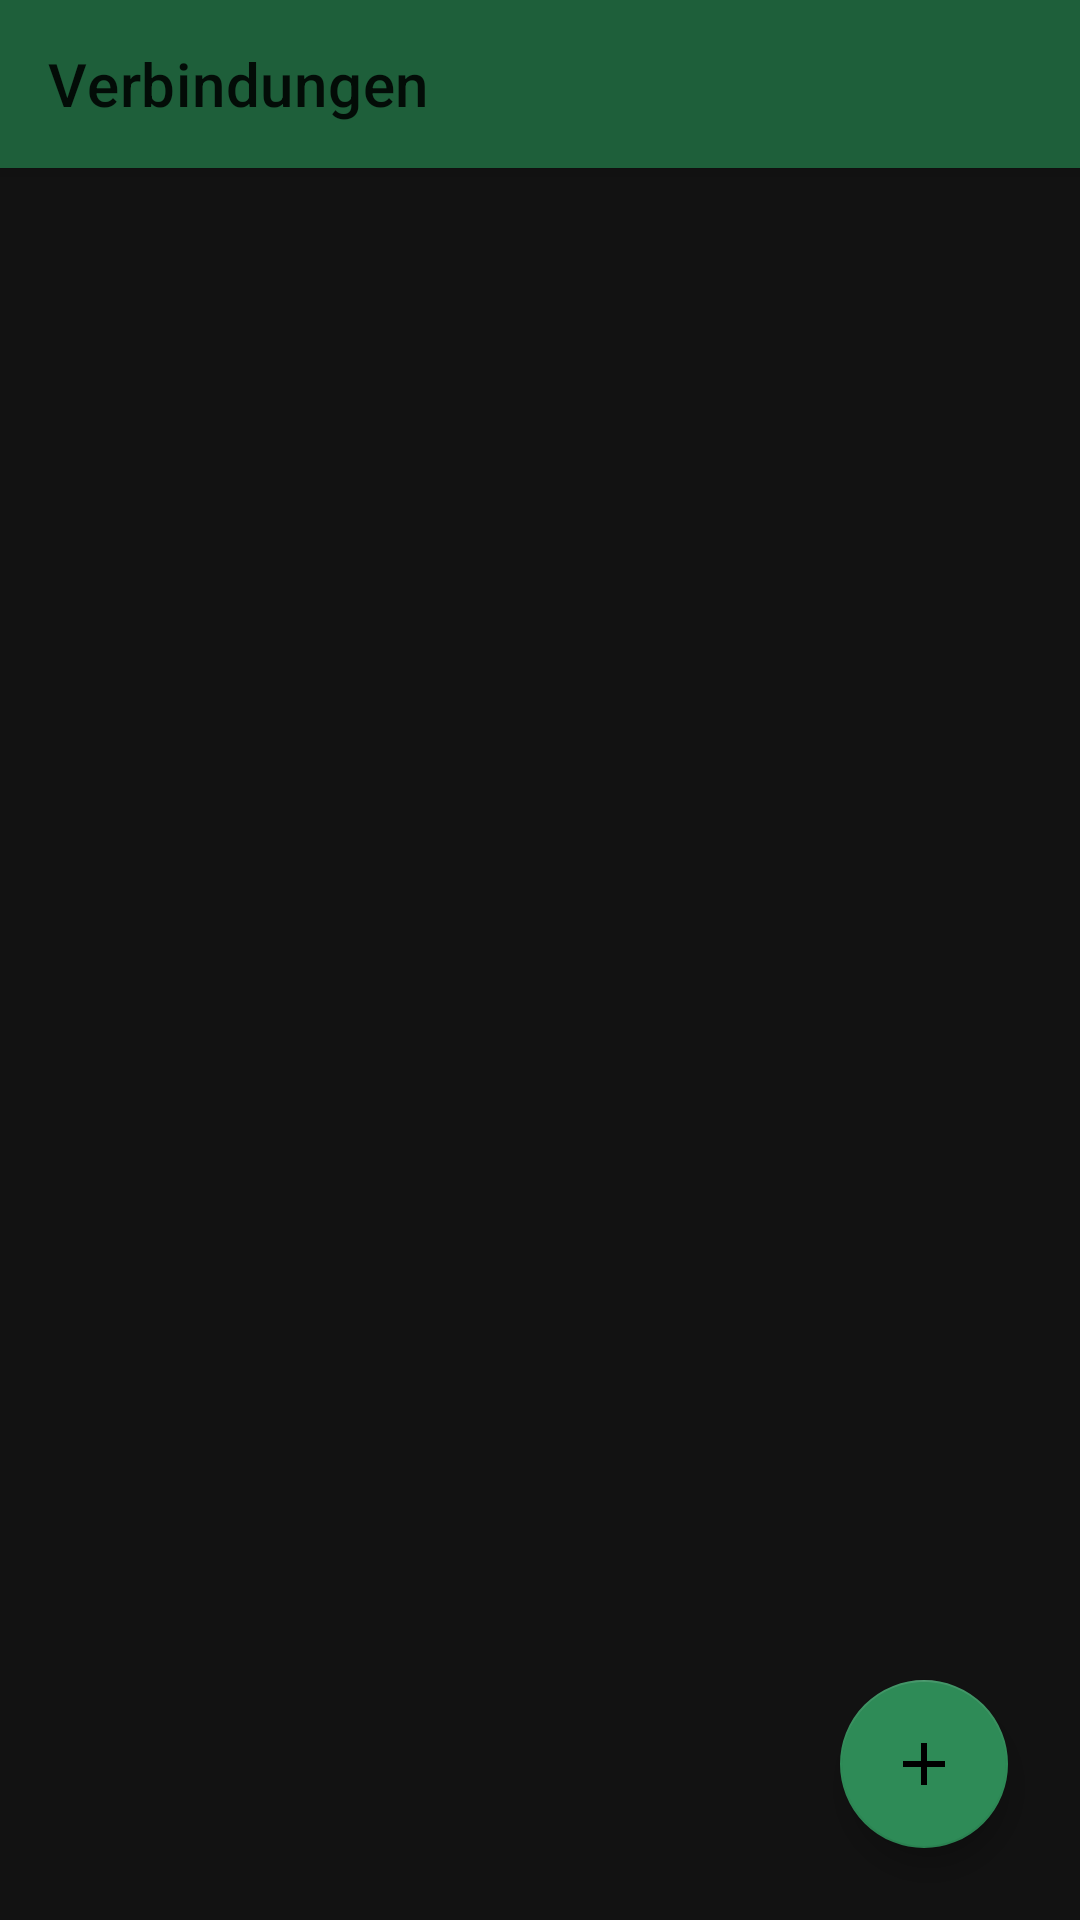

Where to tap for icons on this 1080w x 1920h app screen, as (x,y):
Neue Verbindung: (924,1764)
